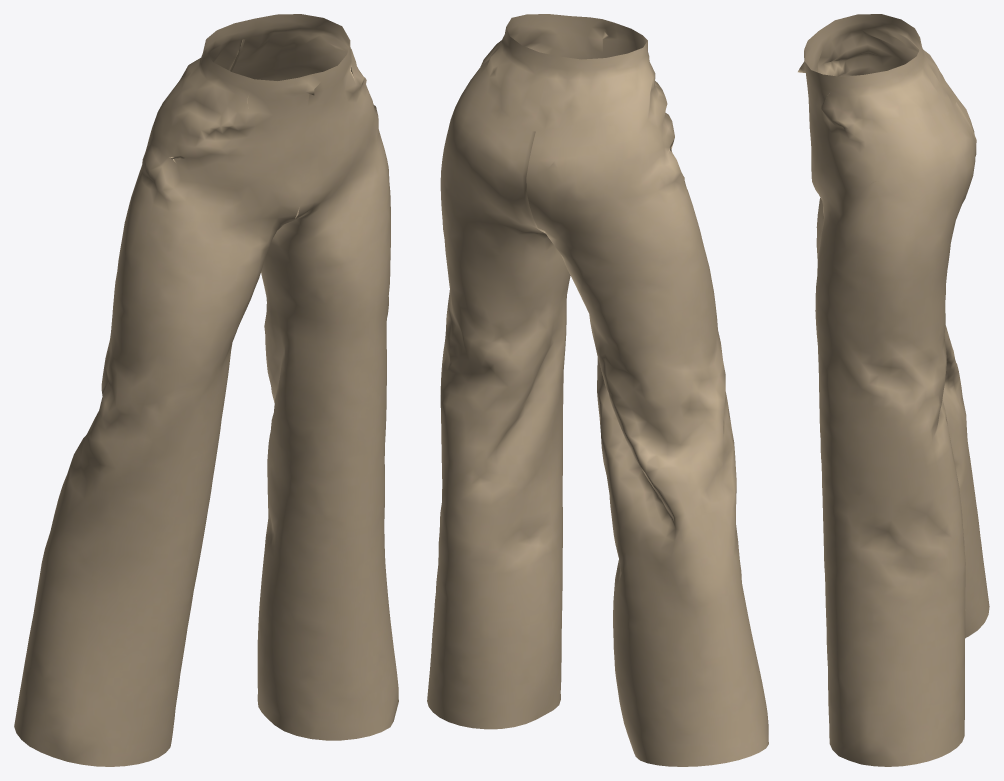
File: Beige broek YAYA.fbx
3 renders of one model, left to right at view 1: azimuth 30°, elevation 25°; view 2: azimuth 150°, elevation 25°; view 3: azimuth 270°, elevation 25°, orthographic. The views are drawn at different scales.
Parts seen in each view (by area): view 1: roze broek die echt roze is; view 2: roze broek die echt roze is; view 3: roze broek die echt roze is.
Part boxes in pixels (left/top/right/bottom): roze broek die echt roze is: left=14, top=14, right=398, bottom=766; roze broek die echt roze is: left=427, top=14, right=768, bottom=766; roze broek die echt roze is: left=798, top=14, right=989, bottom=766.
Bounding box in the file's own units: 51.66 × 98.92 × 25.82.
Materials: 1 (1 with a texture image).
